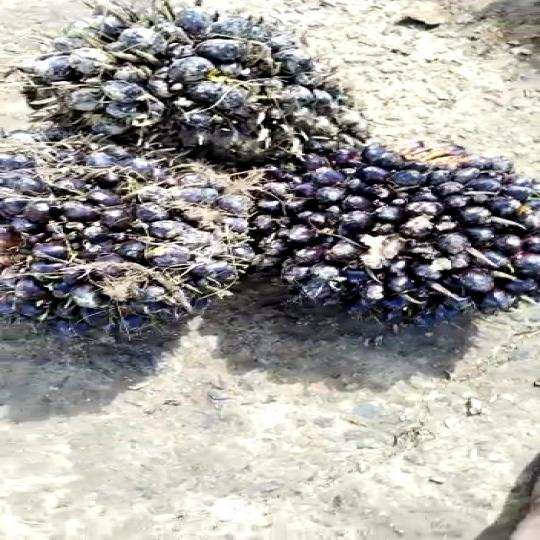mentah: (0, 134, 249, 370), (231, 143, 540, 329), (31, 4, 368, 173)
